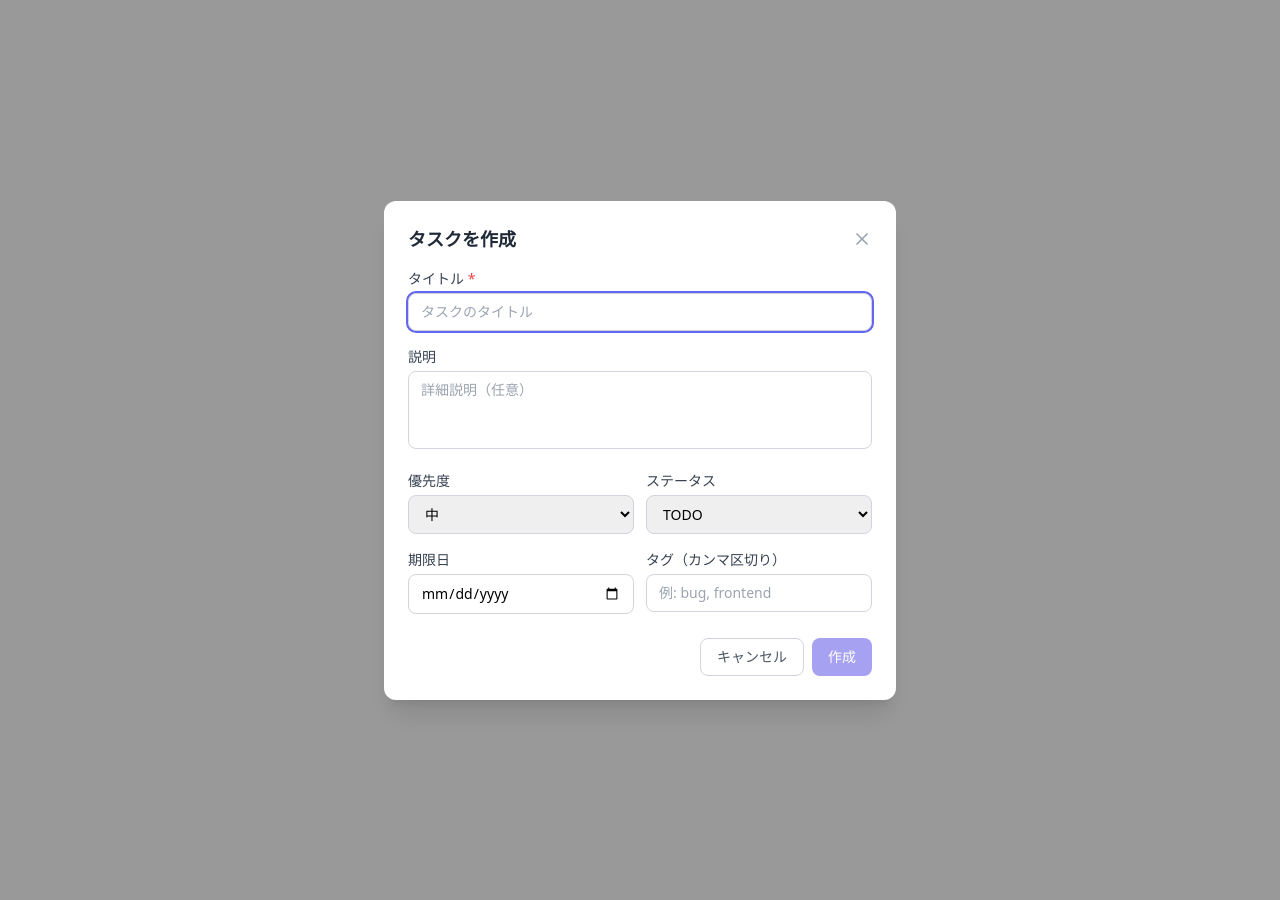
Scenario: TaskCreateModal › title 入力後に送信ボタンが有効になる
The image size is (1280, 900).
Type "New Task" into the field with placeholder "タスクのタイトル". click: (640, 312)
box: left=408, top=292, right=872, bottom=330
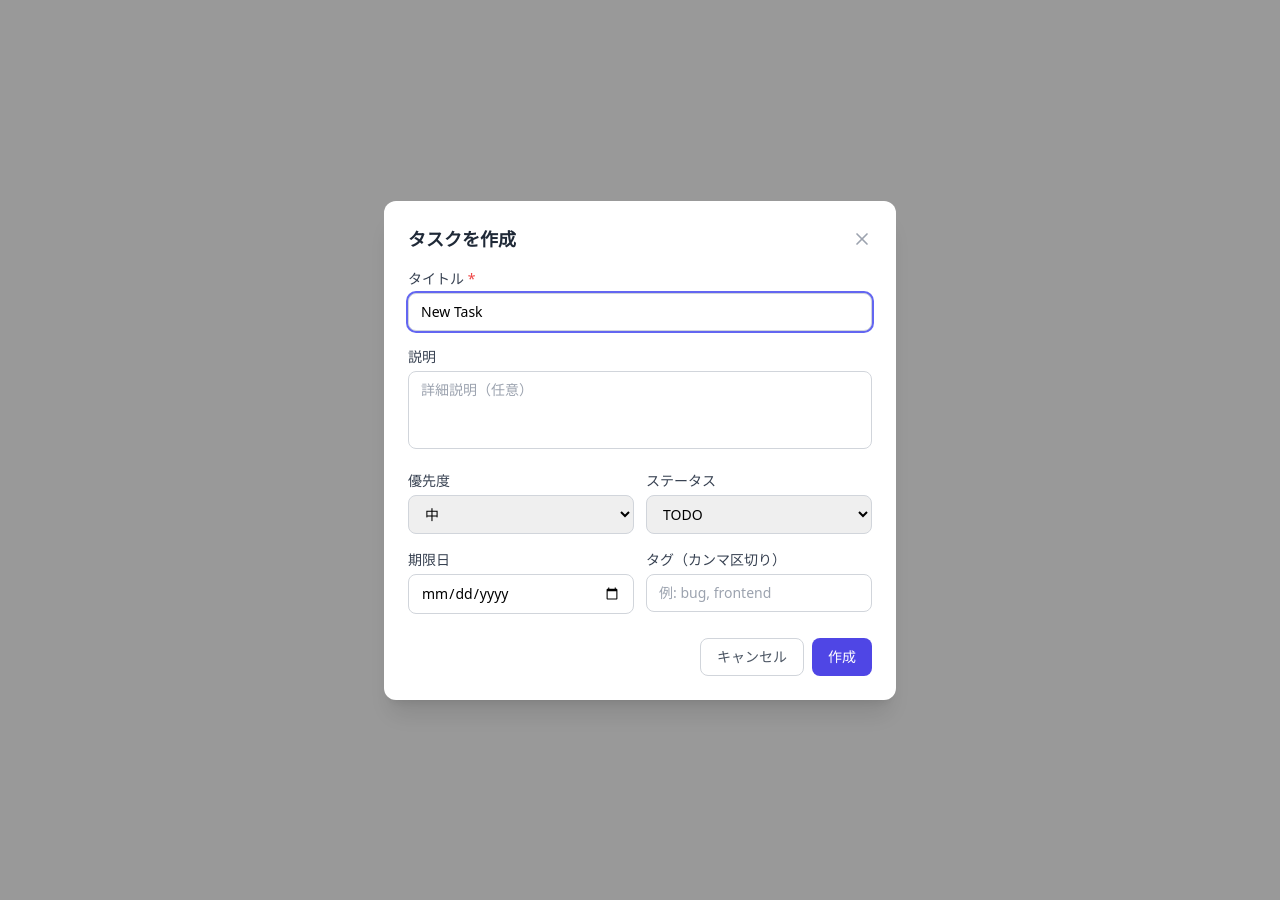
Now the button "作成" is enabled, box left=812, top=638, right=872, bottom=676
